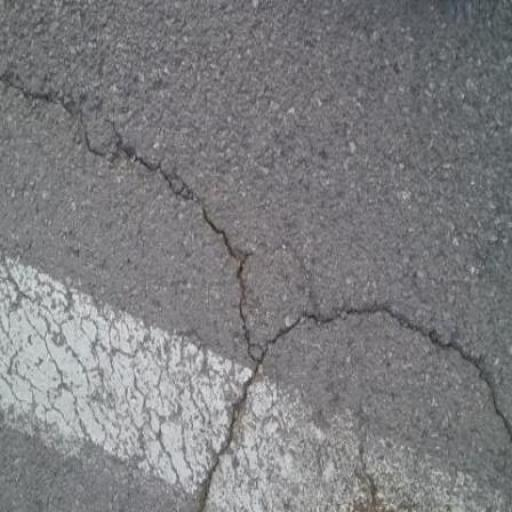spalling: (3, 63, 270, 366), (182, 289, 512, 502)
